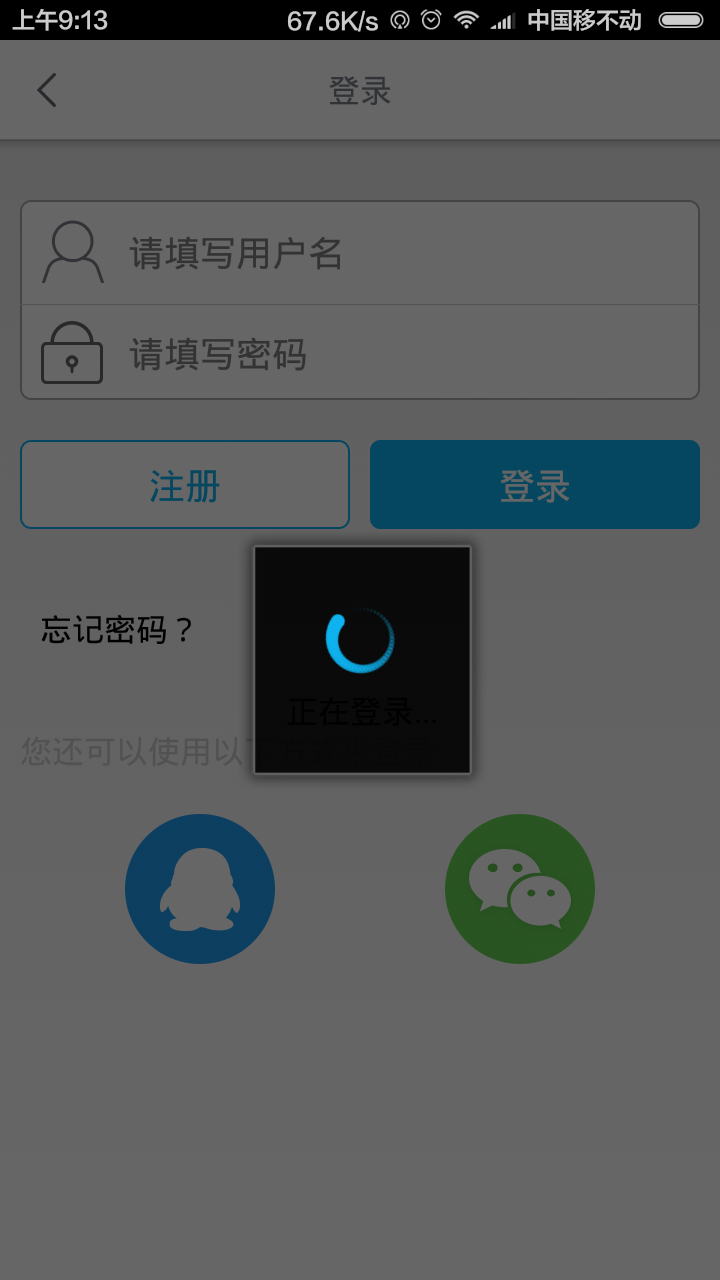alert: (244, 531, 481, 785)
